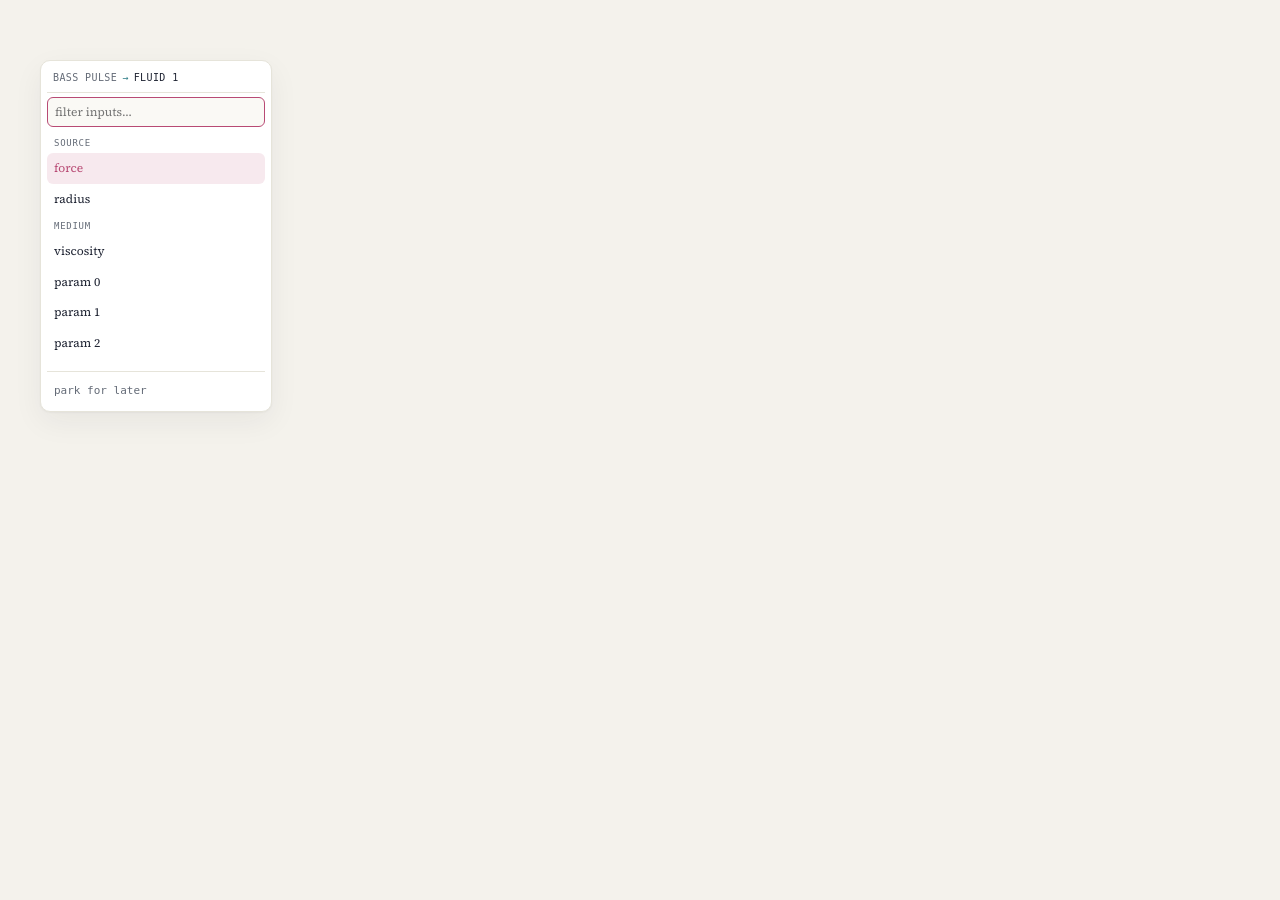
Test: PortDropMenu › filters a long list, and groups it under its param headers
Check: the number of elements with class "gc-drop-group" is 2, box [54,138,91,148]; [54,221,91,231]
Type "visc" into the field labelled "filter inputs" at (156, 112), box [47,96,265,127]
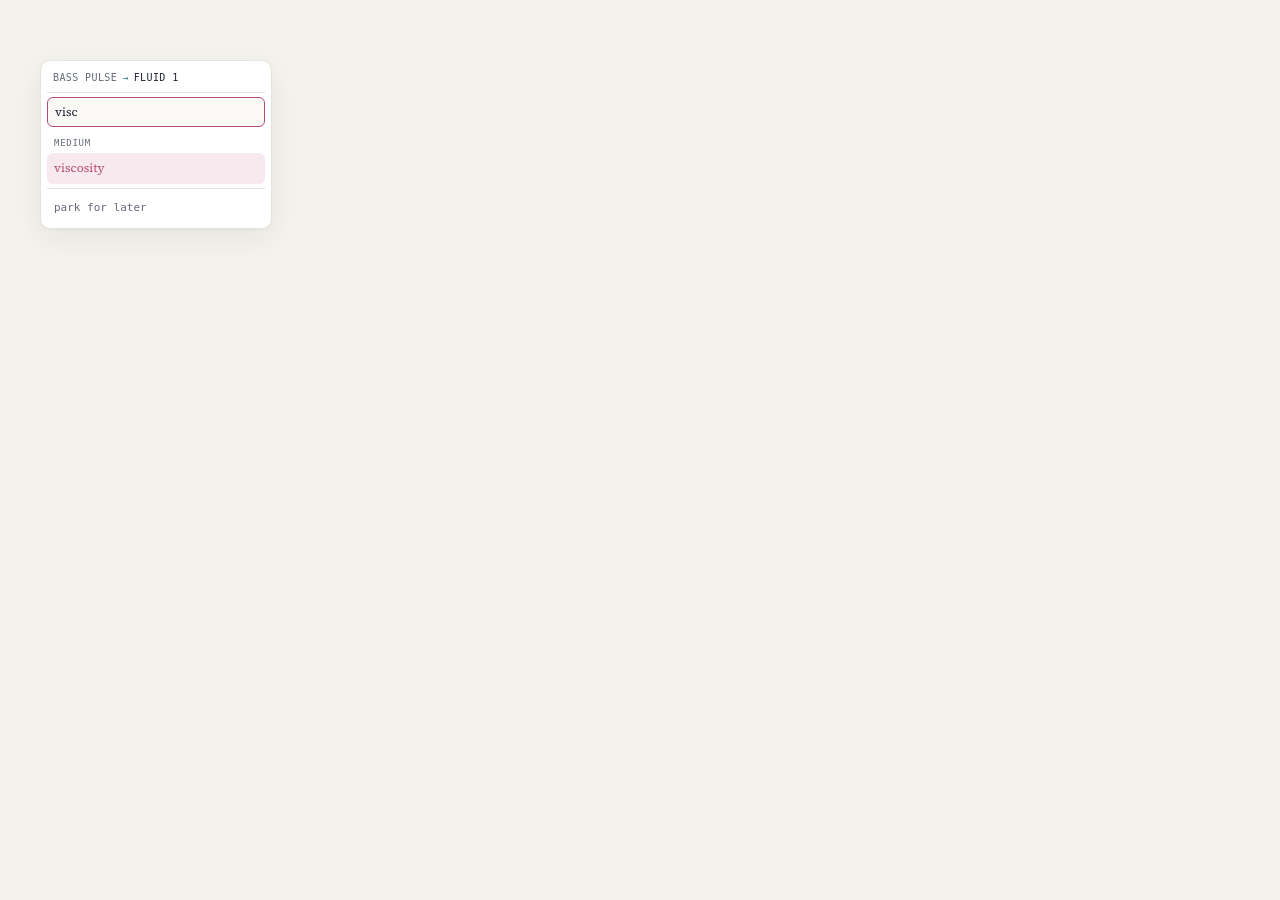
Check: the text "viscosity" is shown, box [54,159,104,178]
Check: the button "force" is gone
